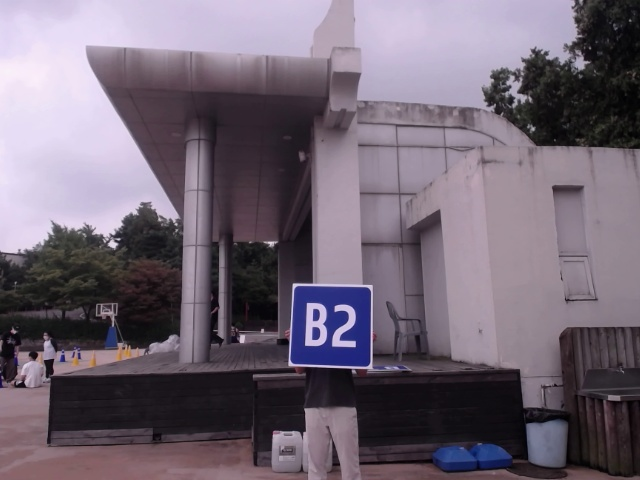delivery_b2: (293, 283, 372, 368)
